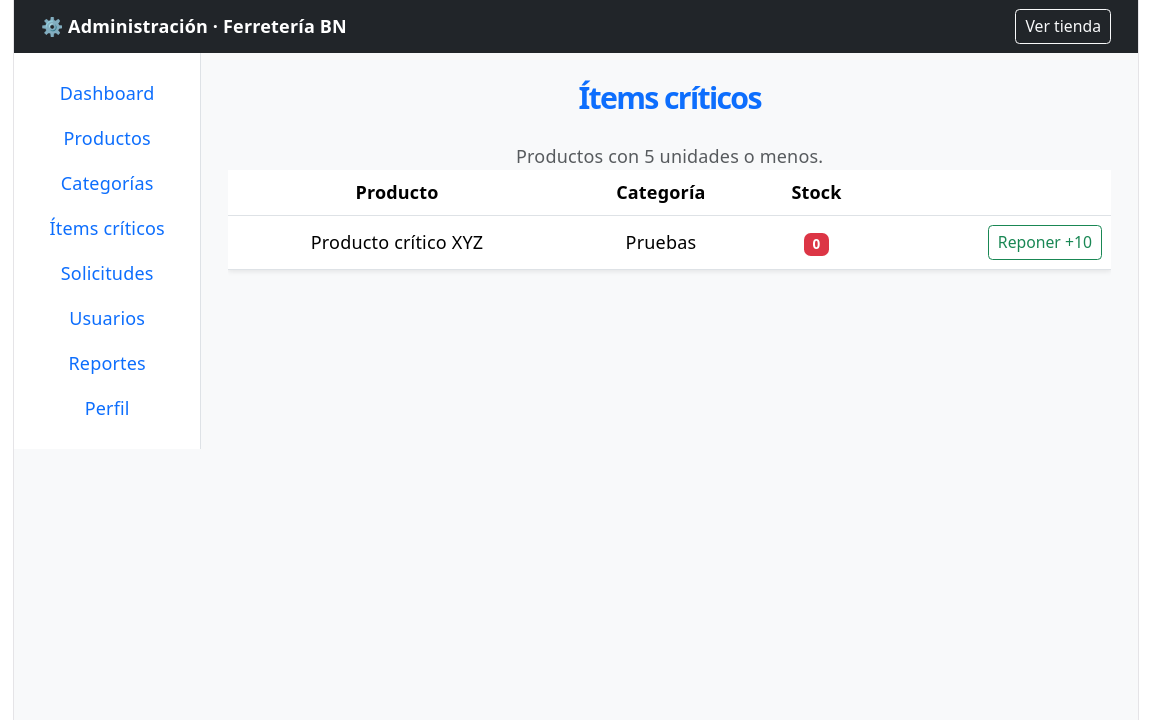
Scenario: AdminCriticos (página) › al reponer, el producto sale de la lista de críticos
What coordinates should you click on to do the following:
click the button with aria-label "Reponer Producto crítico XYZ"
I would click on:
 (1045, 242)
Its box is [988,225,1102,260].
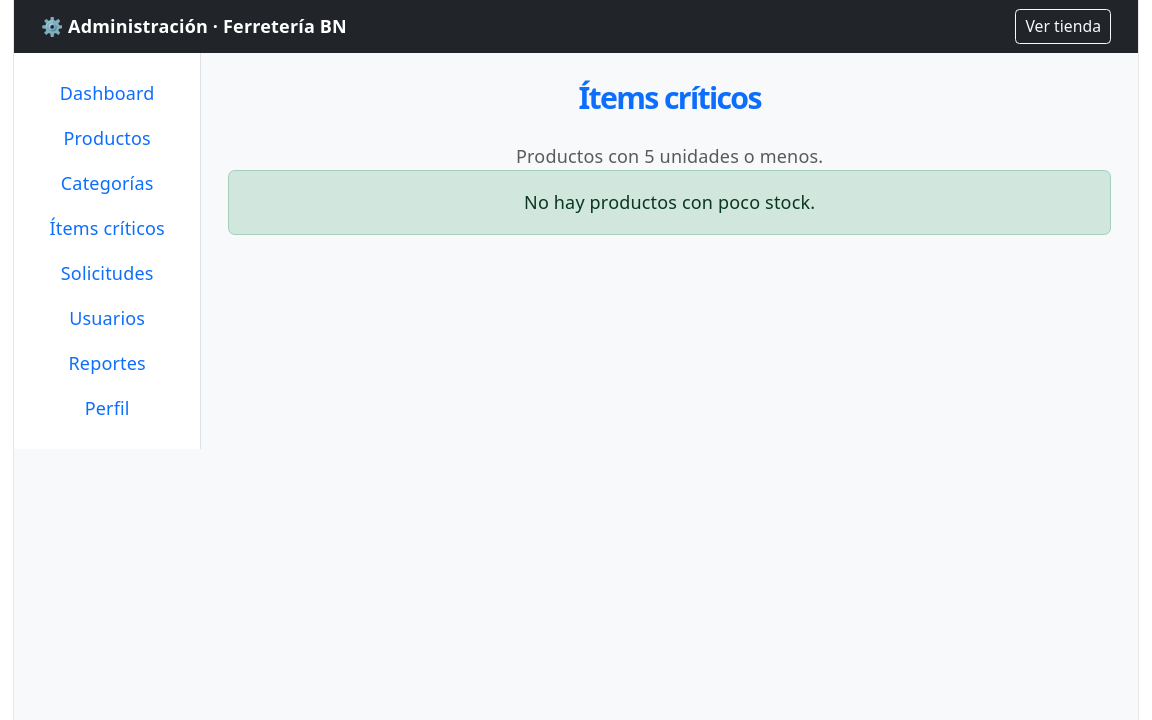
Result: the text "Producto crítico XYZ" is gone
